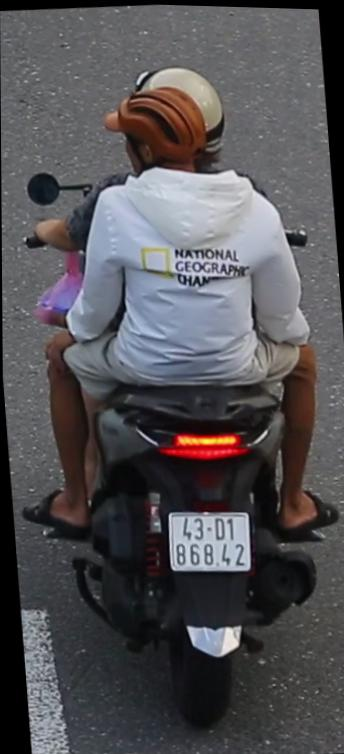LP: (162, 498, 255, 579)
helmet: (100, 52, 234, 186)
